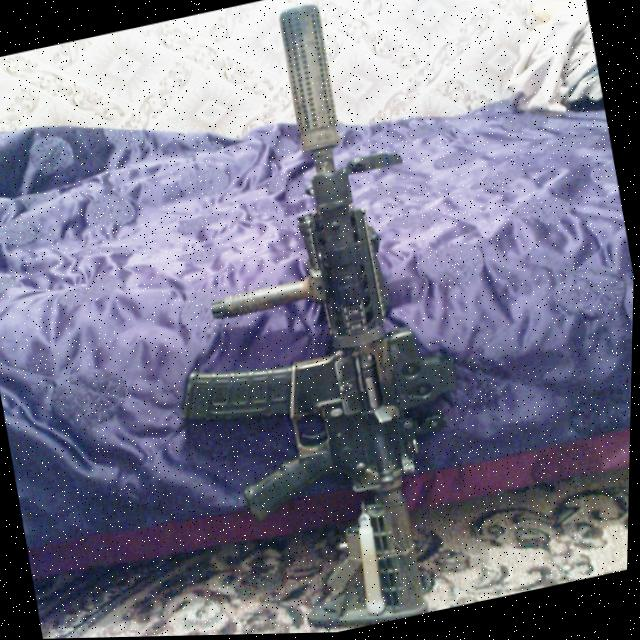firearm: (100, 0, 510, 638)
